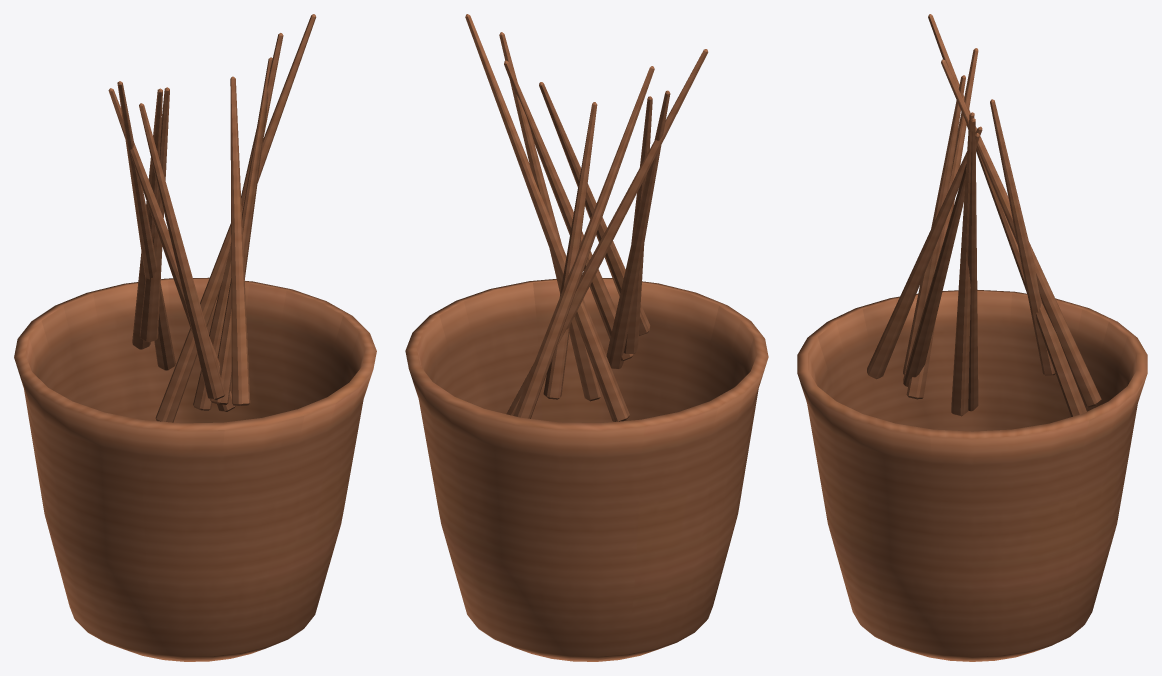
File: p_plantpot.glb
3 views of the same model, side by side, from view 1: azimuth 30°, elevation 25°; view 2: azimuth 150°, elevation 25°; view 3: azimuth 270°, elevation 25° (orthographic). The views are drawn at different scales.
Parts seen in each view (by area): view 1: plantpot; view 2: plantpot; view 3: plantpot.
Boxes of the visible parts, x1,y1,x2,y2 form: plantpot: (14,14,376,661); plantpot: (405,14,768,661); plantpot: (797,14,1147,661).
Size of the model in its own units: 0.4191 by 0.738 by 0.4161.
1 material, 1 textured.
